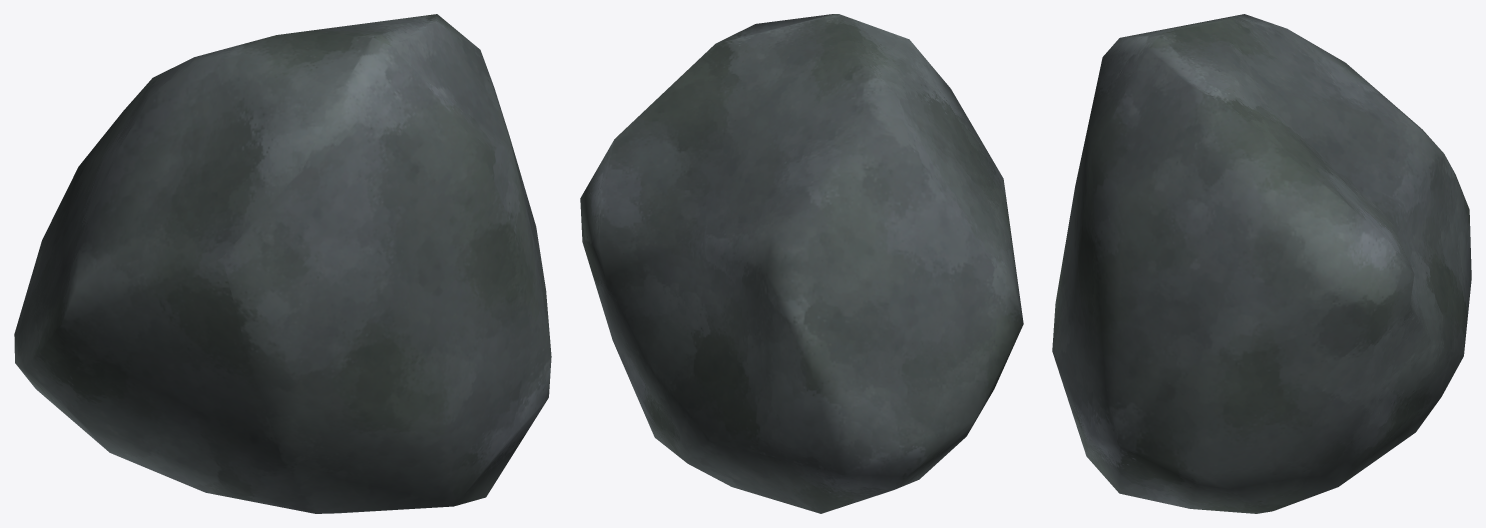
The model's file is rock_01.fbx.
The picture shows the model from 3 angles, left to right: view 1: azimuth 30°, elevation 25°; view 2: azimuth 150°, elevation 25°; view 3: azimuth 270°, elevation 25°; orthographic projection. The views are drawn at different scales.
Visible parts, largest first — view 1: rock_01; view 2: rock_01; view 3: rock_01.
Part boxes in pixels (x1,y1,x2,y2): rock_01: (14, 14, 551, 513); rock_01: (580, 14, 1023, 513); rock_01: (1052, 14, 1471, 513).
Bounding box in the file's own units: 131 × 133 × 115.
